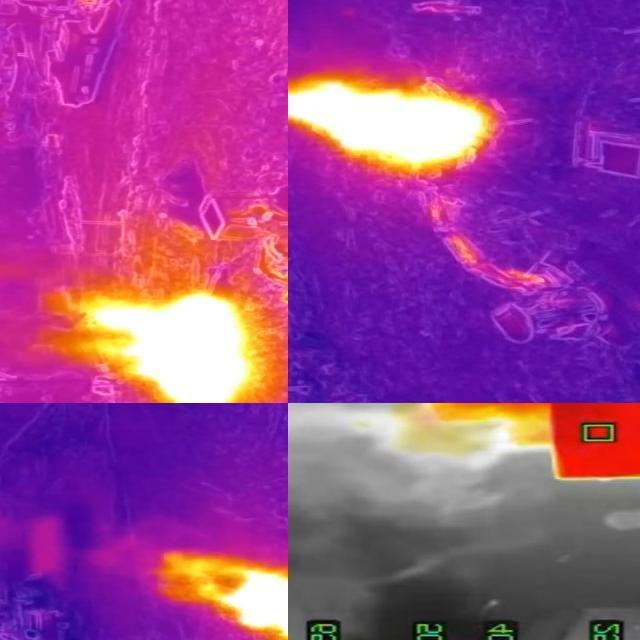fire: (289, 67, 503, 177), (65, 291, 255, 404), (167, 558, 289, 640), (421, 404, 557, 450)
